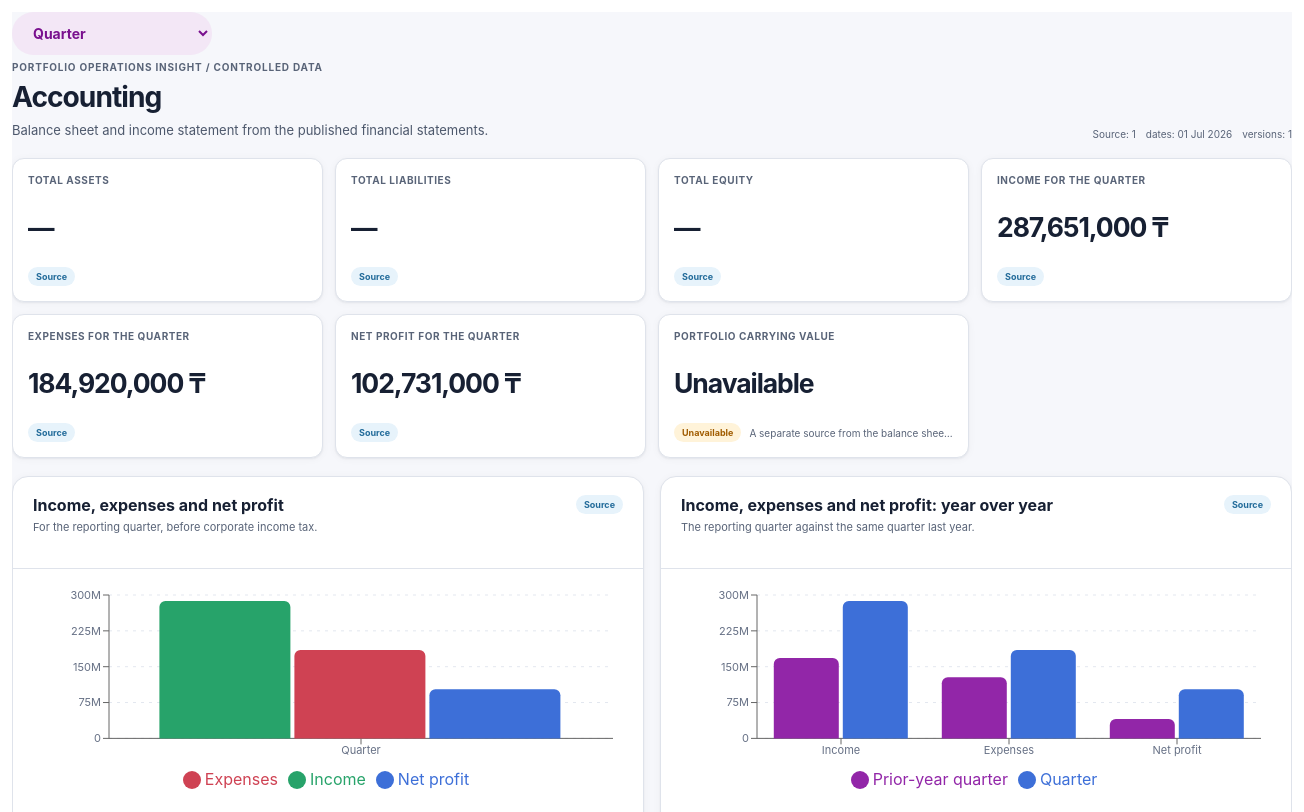
Test case: multi-source domain pages › switches the income-statement year-over-year chart's comparison period with the toggle
Expected: the heading "Income, expenses and net profit: year over year" is shown, [681,495,1053,515]
Expected: the text "The reporting quarter against the same quarter last year." is shown, [681,520,975,534]
Select "Year to date (YTD)" in the dropdown named "Income statement" at (112, 34), box [12,12,212,55]
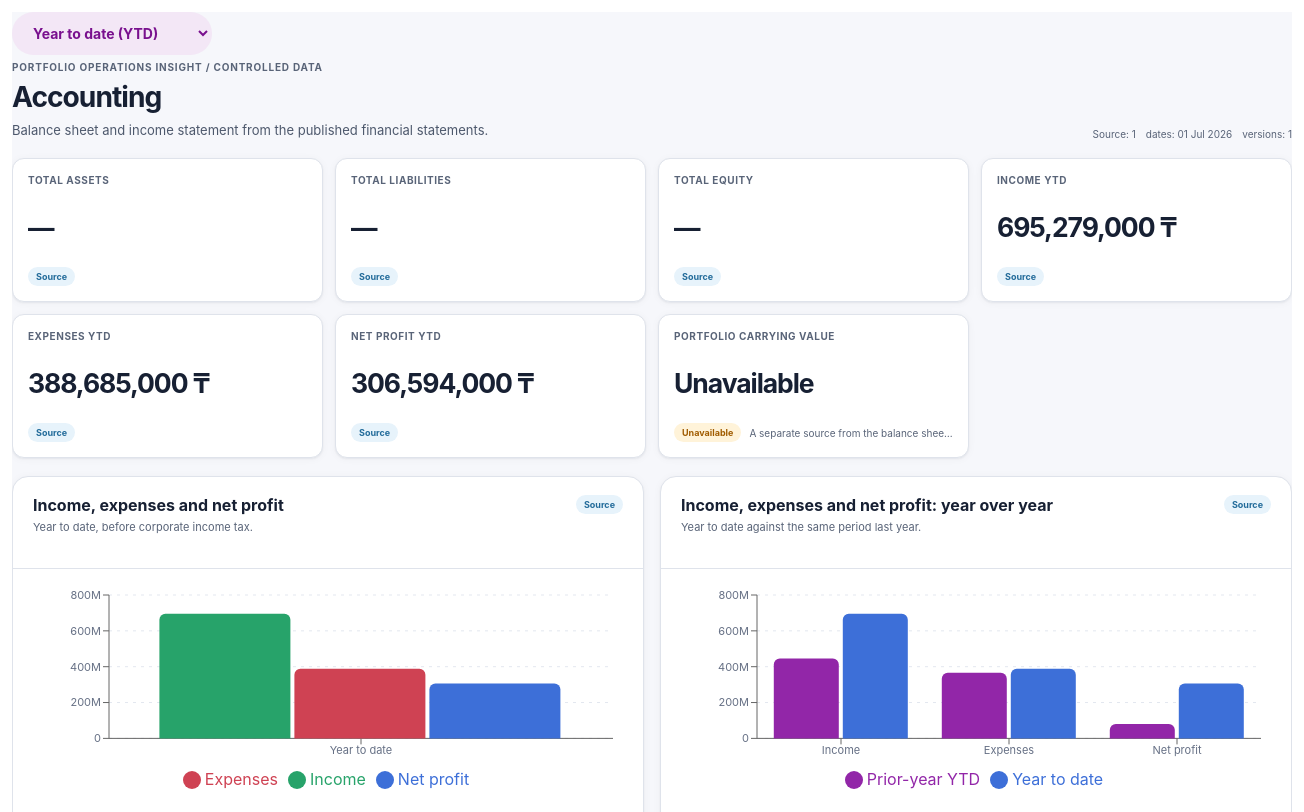
Now the text "Year to date against the same period last year." is shown, box [681,520,921,534]
Now the text "The reporting quarter against the same quarter last year." is gone
